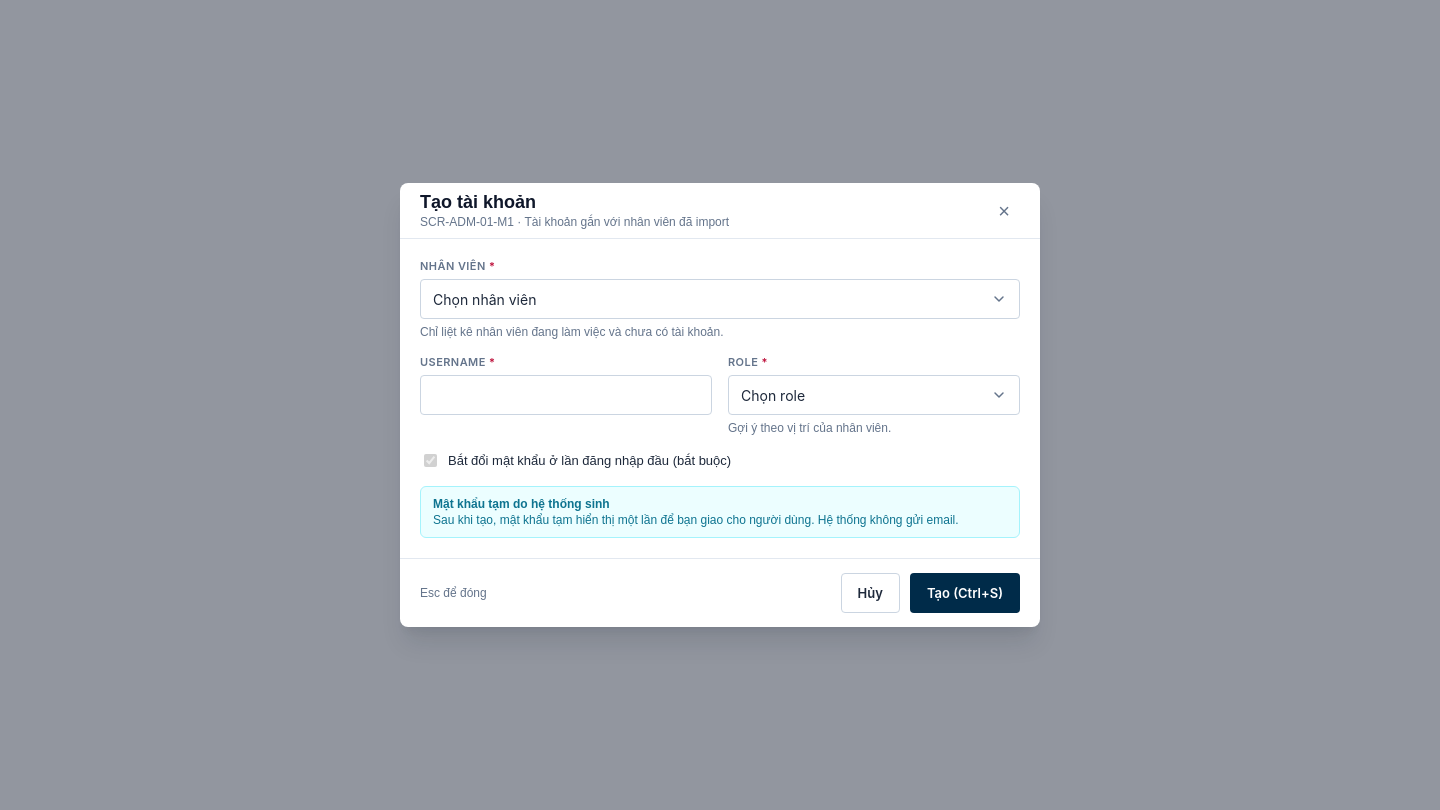
UserAccountFormModalComponent › shows the username-exists error returned by the API
Select "NV0031 · Vũ Thị G" in the dropdown with id "account-employee": (720, 299) [420, 279, 1020, 319]
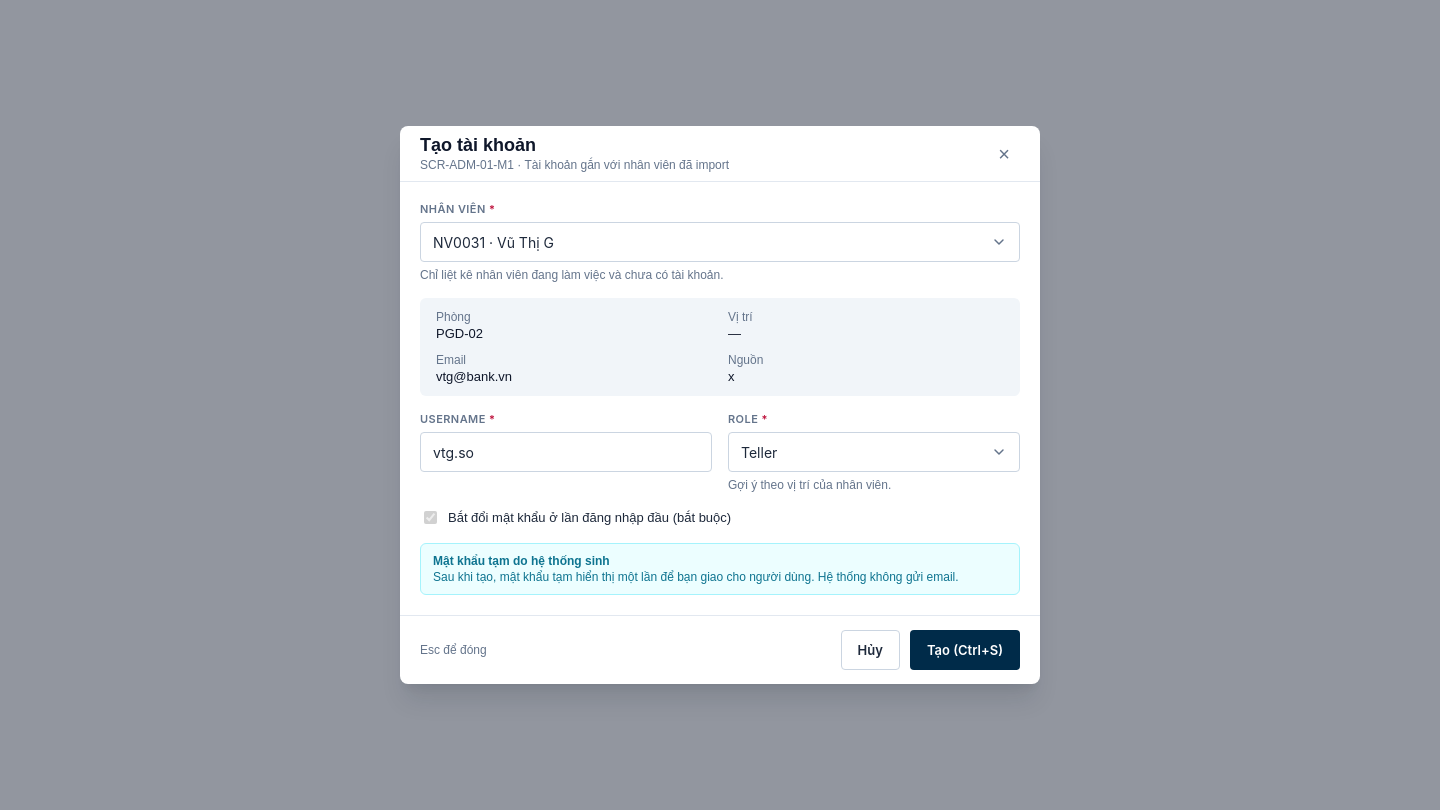
Submit the form, box [400, 182, 1040, 684]
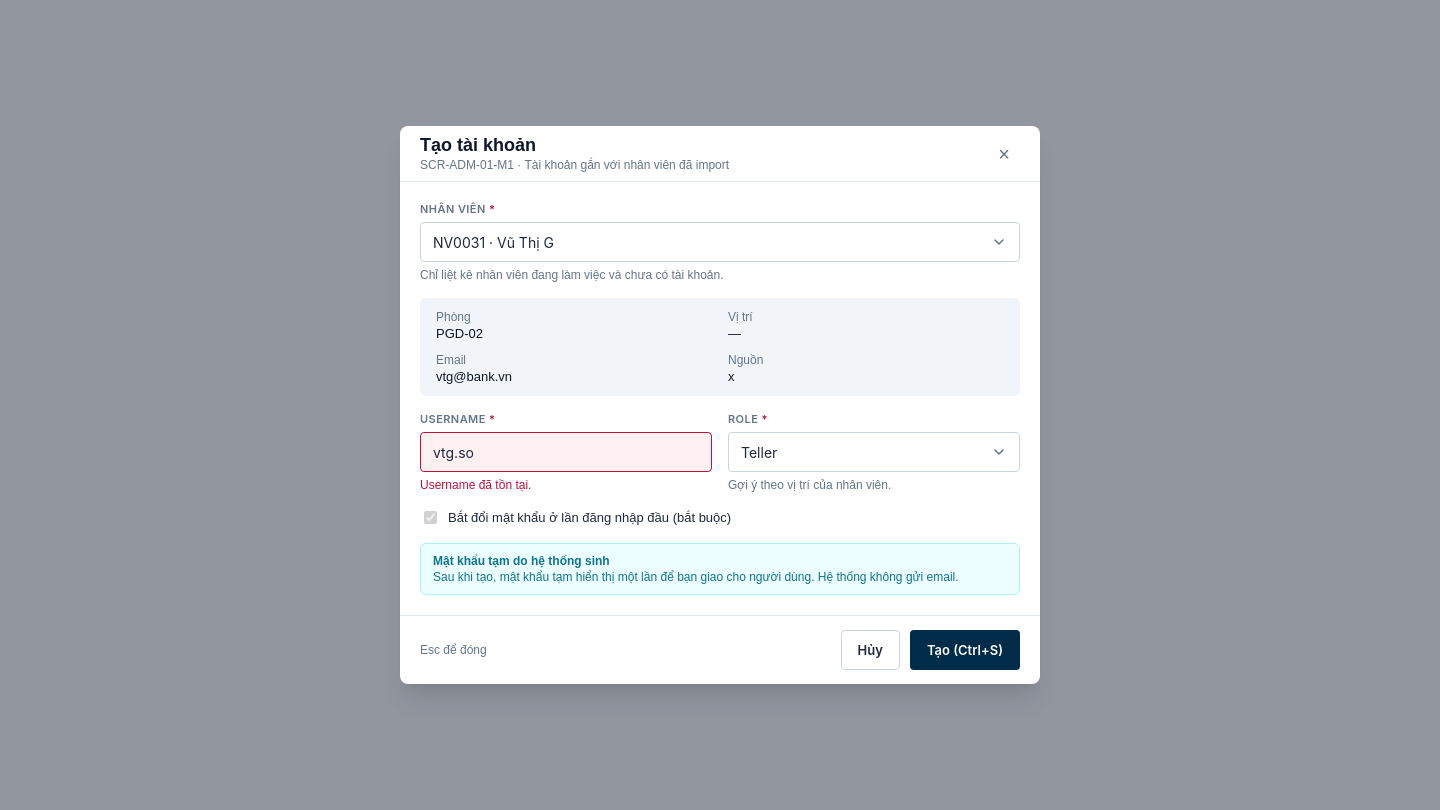
Check: the message with class "field-error" shows "Username đã tồn tại", box [420, 478, 531, 492]
